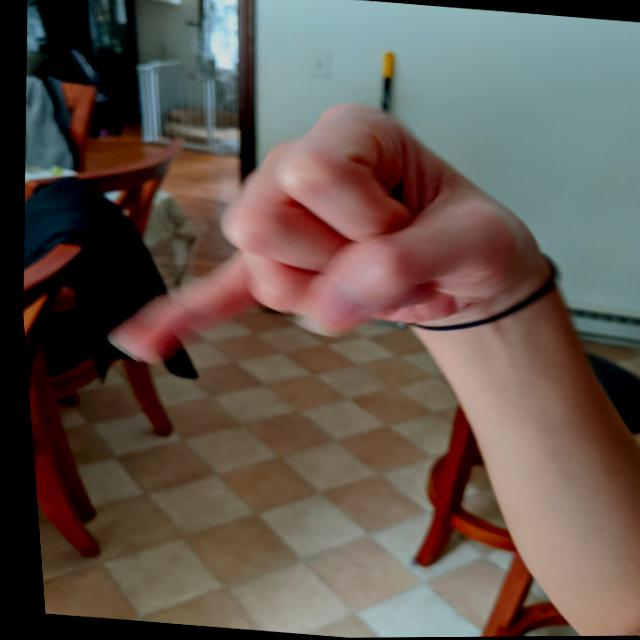J: (73, 68, 580, 410)
